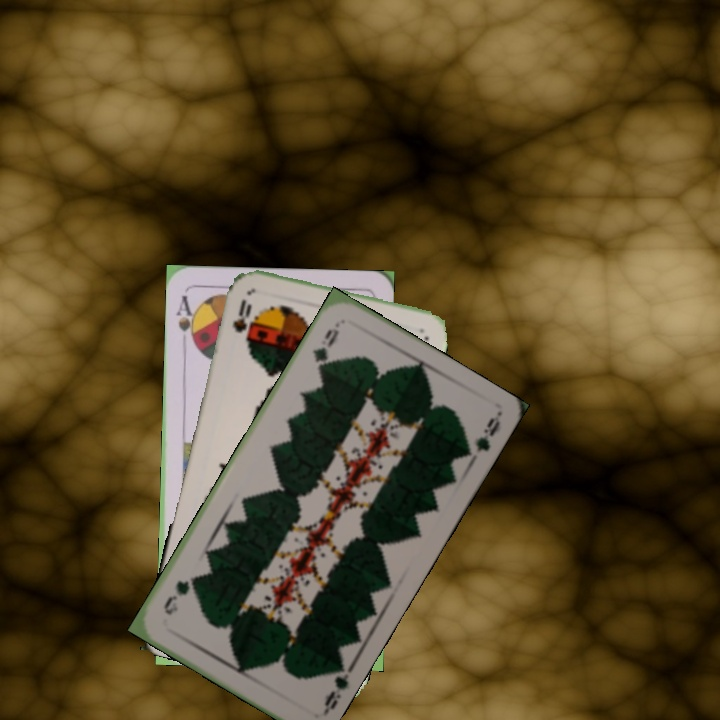G9: (319, 659, 355, 719), (308, 319, 342, 376)
SA: (172, 291, 199, 349)
SO: (229, 295, 254, 346)
